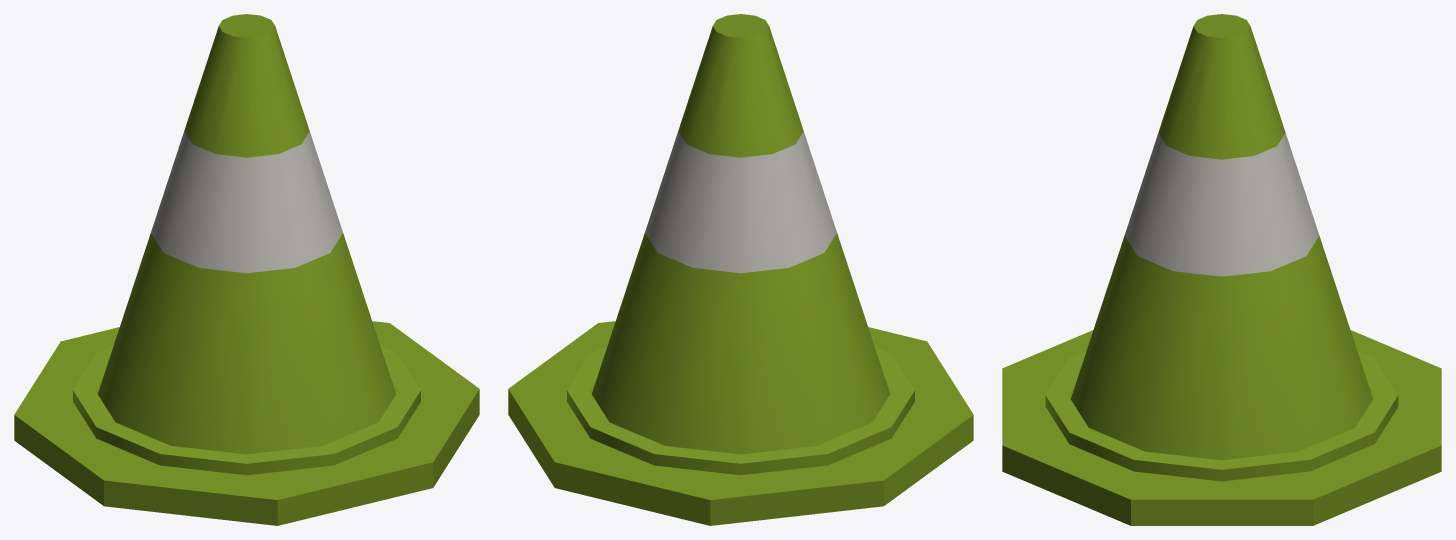
File: sign.cone.lime.glb
3 renders of one model, left to right at view 1: azimuth 30°, elevation 25°; view 2: azimuth 150°, elevation 25°; view 3: azimuth 270°, elevation 25°, orthographic.
Parts seen in each view (by area): view 1: sign_cone_lime; view 2: sign_cone_lime; view 3: sign_cone_lime.
Boxes of the visible parts, x1,y1,x2,y2 form: sign_cone_lime: (14,14,479,525); sign_cone_lime: (508,14,973,525); sign_cone_lime: (1002,14,1441,525).
Size of what is drawn, in the model's own units: 0.685 by 0.7 by 0.685.
